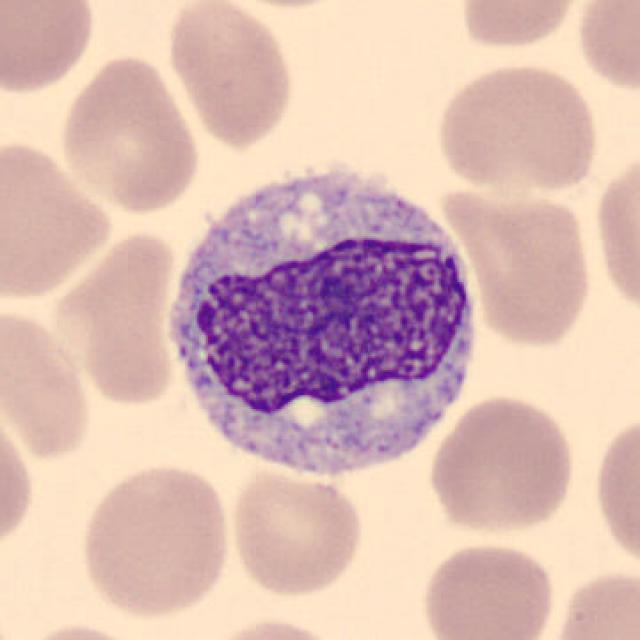Monocyte: (149, 146, 487, 490)
RBC: (441, 180, 599, 351), (46, 225, 187, 412), (74, 458, 234, 622), (55, 49, 205, 217), (432, 58, 604, 198), (425, 391, 579, 538), (164, 0, 298, 152), (0, 132, 117, 303), (226, 462, 368, 599), (0, 300, 98, 465), (416, 537, 560, 640), (0, 0, 100, 99), (588, 404, 640, 580), (590, 139, 638, 323), (454, 0, 588, 53), (546, 564, 638, 640), (571, 0, 638, 97), (0, 400, 39, 562), (197, 613, 348, 640), (13, 619, 158, 640), (211, 0, 360, 12)
